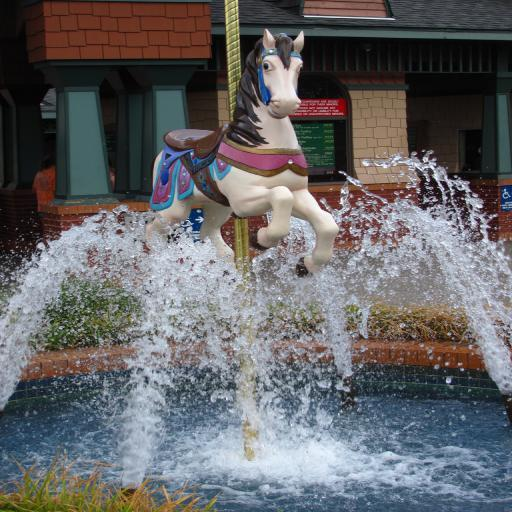horse: (142, 25, 341, 278)
